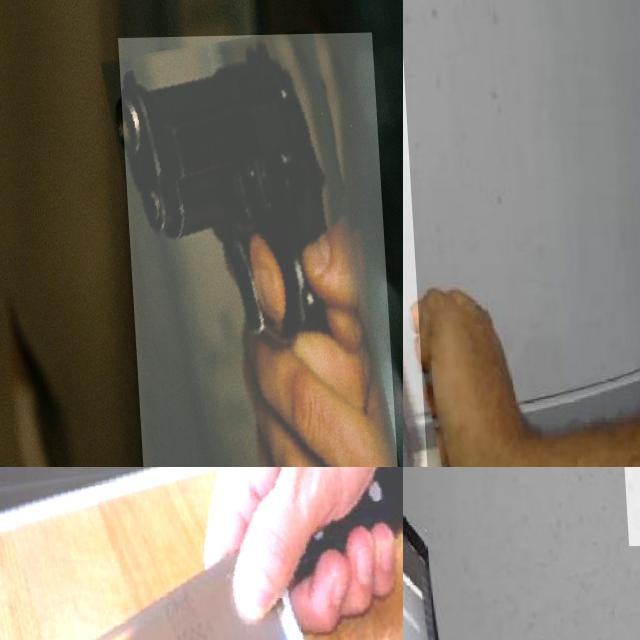-: (0, 467, 403, 640), (403, 0, 475, 467)
gun-knife-thesis - v11 Yolov5 augmented: (117, 35, 398, 467)
